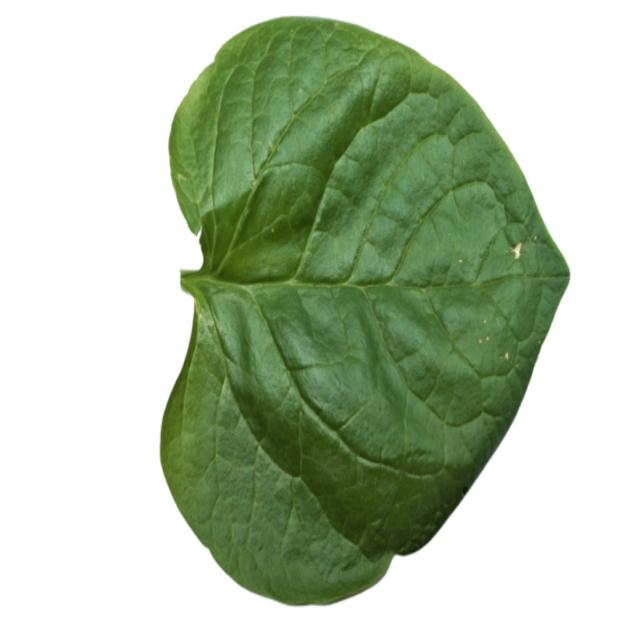Medicinal-Basale: (159, 12, 570, 605)
